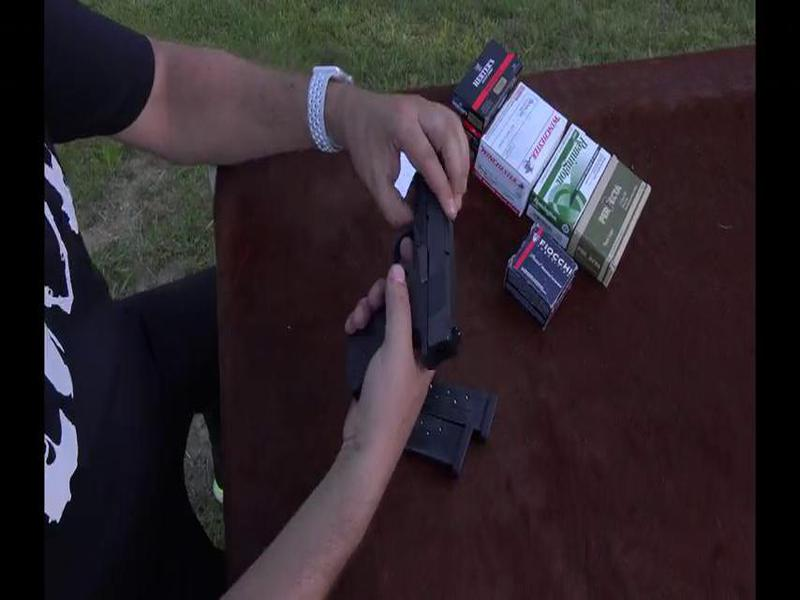Pistola: (327, 154, 498, 387)
